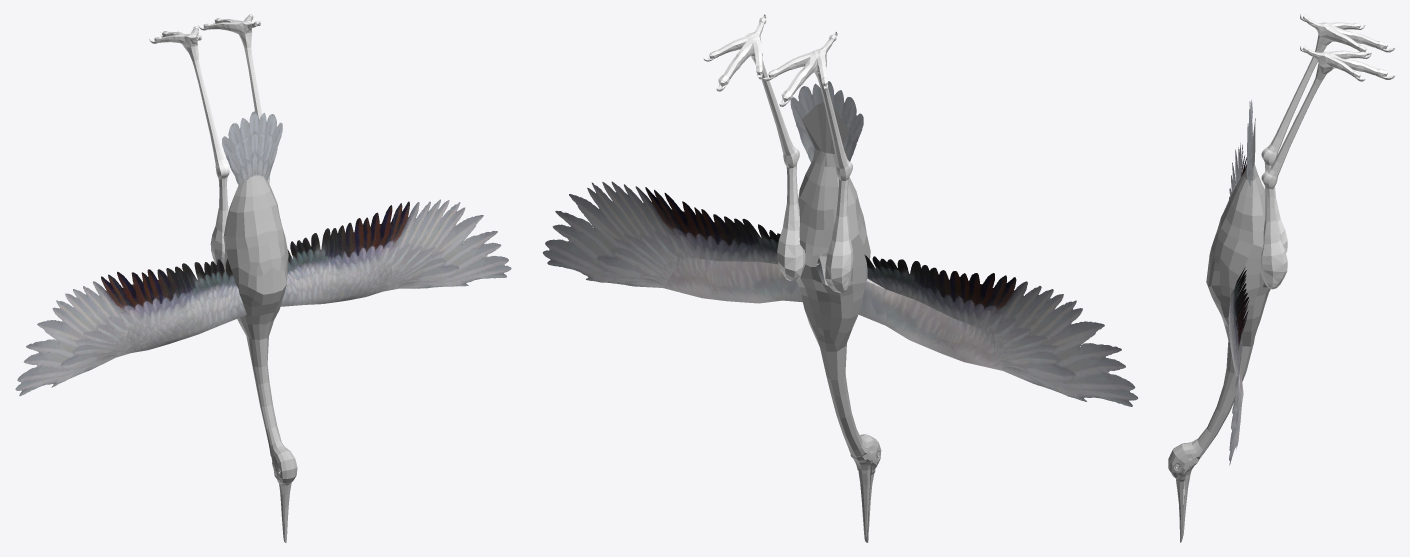
The model's file is crane.fbx.
3 views of the same model, side by side, from view 1: azimuth 30°, elevation 25°; view 2: azimuth 150°, elevation 25°; view 3: azimuth 270°, elevation 25° (orthographic). The views are drawn at different scales.
Parts seen in each view (by area): view 1: 对象05, 对象07, objobjobjbody, 对象06, 对象10, 对象09; view 2: 对象07, 对象05, objobjobjbody, 对象10, 对象09, 对象06; view 3: objobjobjbody, 对象09, 对象10, 对象05, 对象06, 对象07.
Part boxes in pixels (x1,y1,x2,y2): 对象05: (280, 199, 511, 306); 对象07: (15, 258, 246, 396); objobjobjbody: (223, 175, 297, 542); 对象06: (222, 111, 282, 186); 对象10: (149, 26, 229, 271); 对象09: (198, 14, 270, 184); 对象07: (858, 255, 1137, 406); 对象05: (542, 181, 825, 303); objobjobjbody: (796, 102, 881, 542); 对象10: (762, 32, 853, 292); 对象09: (703, 14, 805, 281); 对象06: (790, 81, 863, 162); objobjobjbody: (1168, 118, 1270, 542); 对象09: (1260, 46, 1395, 289); 对象10: (1261, 14, 1395, 252); 对象05: (1228, 267, 1249, 465); 对象06: (1246, 100, 1253, 186); 对象07: (1229, 143, 1246, 199).
Bounding box in the file's own units: 43.87 × 39.84 × 16.
